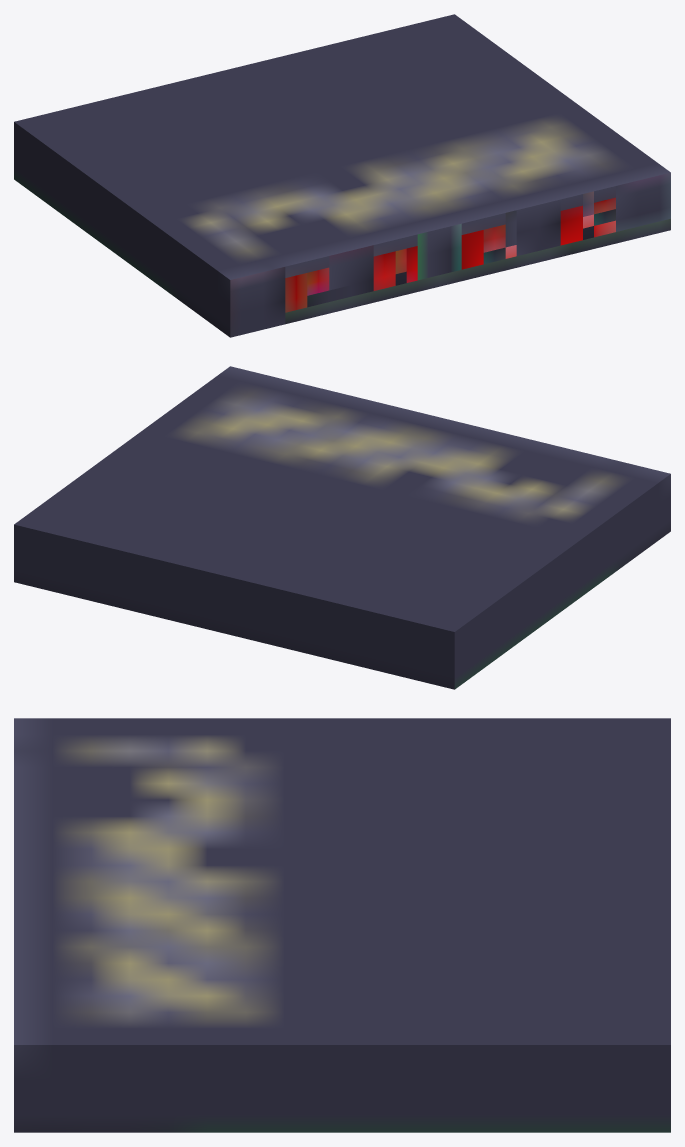
The model's file is PavementTile_E_00.fbx.
3 renders of one model, top to bottom at view 1: azimuth 30°, elevation 25°; view 2: azimuth 150°, elevation 25°; view 3: azimuth 270°, elevation 25°, orthographic. The views are drawn at different scales.
Visible parts, largest first — view 1: PavementTile_E_00; view 2: PavementTile_E_00; view 3: PavementTile_E_00.
Part boxes in pixels (x1,y1,x2,y2): PavementTile_E_00: (14, 14, 670, 337); PavementTile_E_00: (14, 366, 670, 689); PavementTile_E_00: (14, 718, 670, 1132).
Size of the model in its own units: 200 by 25 by 170.
